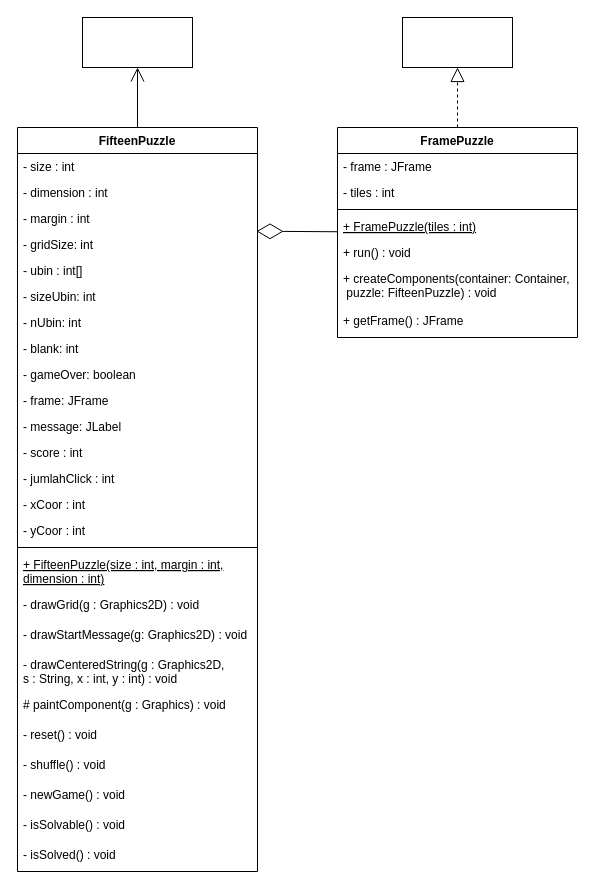
The diagram is 595 pixels wide and 892 high, and some of its shapes have lost their labels. Here are the shapes that lost their labels. From the top down, the centre of each, then its label:
At [137,42]: "JPanel".
At [457,42]: "«interface» Runnable".
